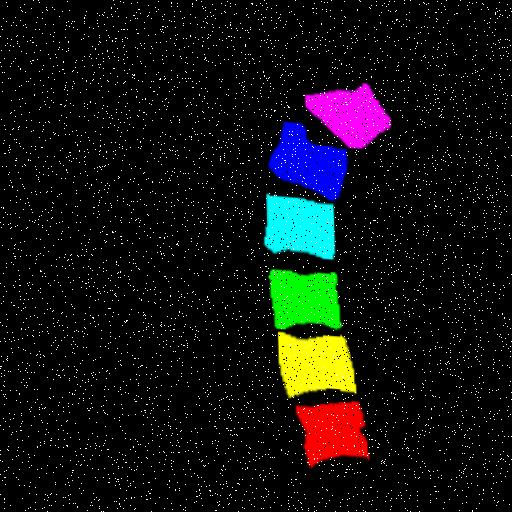L1: (291, 395, 363, 463)
L2: (274, 328, 350, 392)
L3: (267, 267, 336, 323)
L4: (261, 190, 332, 254)
L5: (266, 119, 345, 195)
S1: (303, 79, 389, 143)
